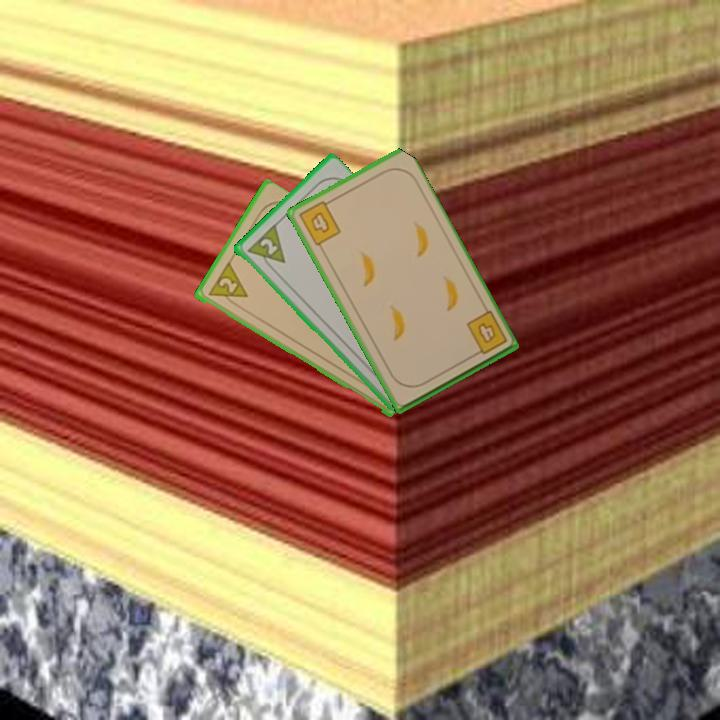2p: (243, 222, 288, 275), (204, 260, 250, 310)
4b: (295, 196, 344, 249), (462, 307, 510, 360)
